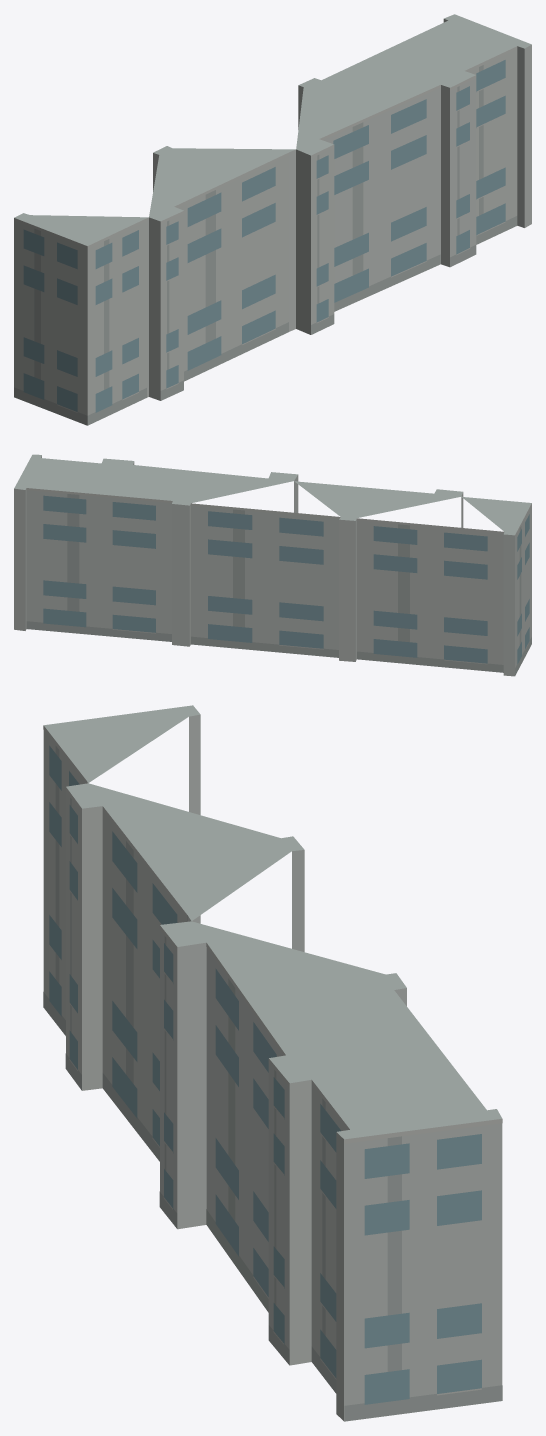
Rendered from survey-upis-33045307.glb.
3 renders of one model, top to bottom at view 1: azimuth 30°, elevation 25°; view 2: azimuth 150°, elevation 25°; view 3: azimuth 270°, elevation 25°, orthographic. The views are drawn at different scales.
Visible parts, largest first — view 1: survey-upis-33045307.tmp; view 2: survey-upis-33045307.tmp; view 3: survey-upis-33045307.tmp.
Boxes of the visible parts, x1,y1,x2,y2 form: survey-upis-33045307.tmp: (14, 14, 531, 425); survey-upis-33045307.tmp: (14, 454, 531, 676); survey-upis-33045307.tmp: (43, 705, 502, 1421).
Bounding box in the file's own units: 50.31 × 15.25 × 22.48.
